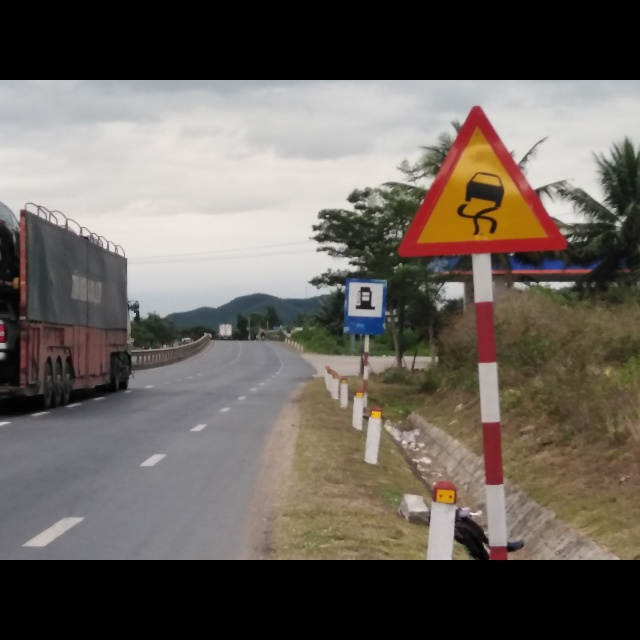Đường trơn trượt: (393, 112, 562, 261)
